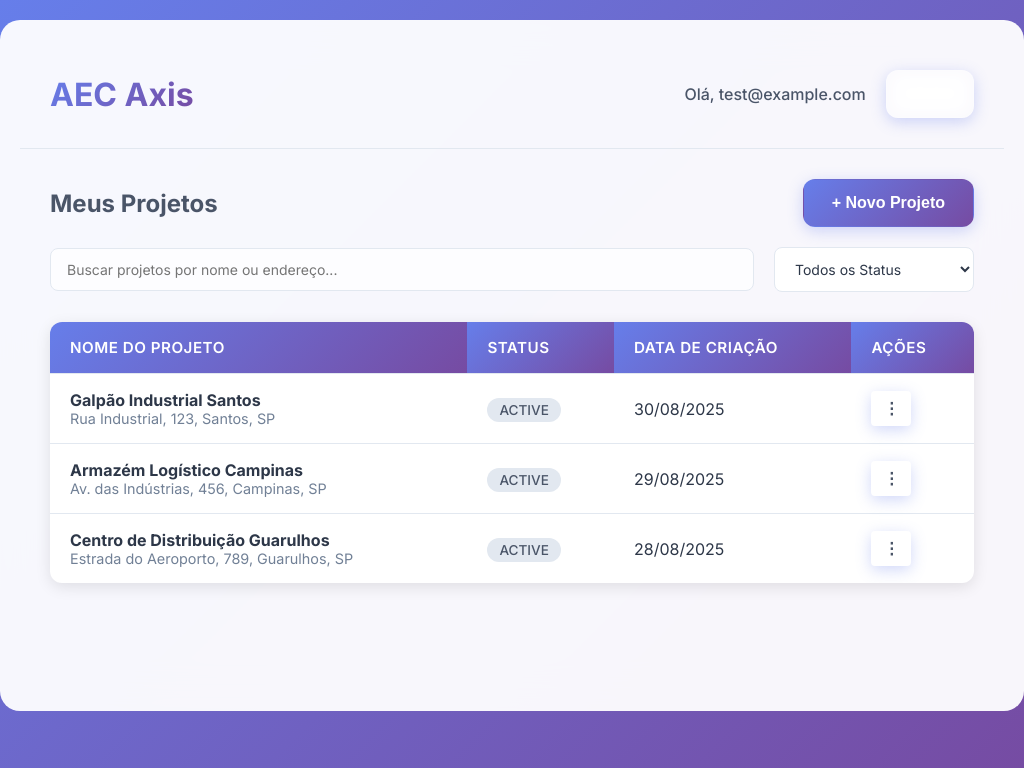
Scenario: Projects Page › Project Action Menus › shows menu options when action button is clicked
Expected: the text "Galpão Industrial Santos" is shown, [70,390,261,410]
Click the button named "ações do projeto" at (891, 408), box [871,391,911,426]
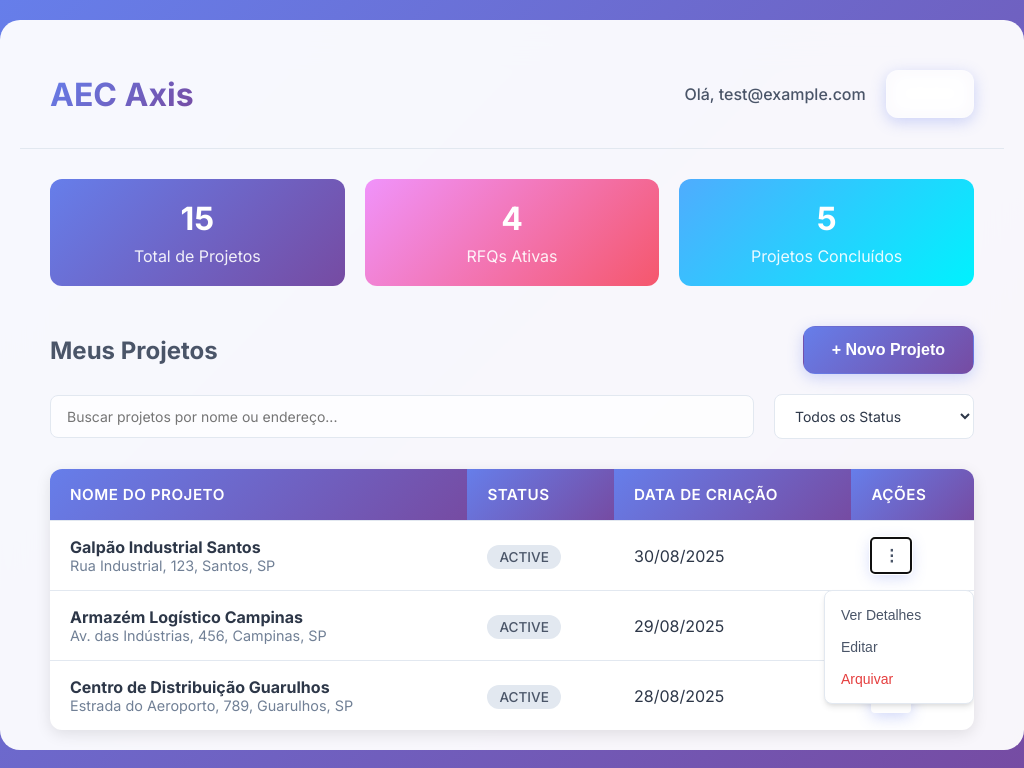
Result: the button "Ver Detalhes" is shown at [825,599,973,631]
Result: the button "Editar" is shown at [825,631,973,663]
Result: the button "Arquivar" is shown at [825,663,973,695]
